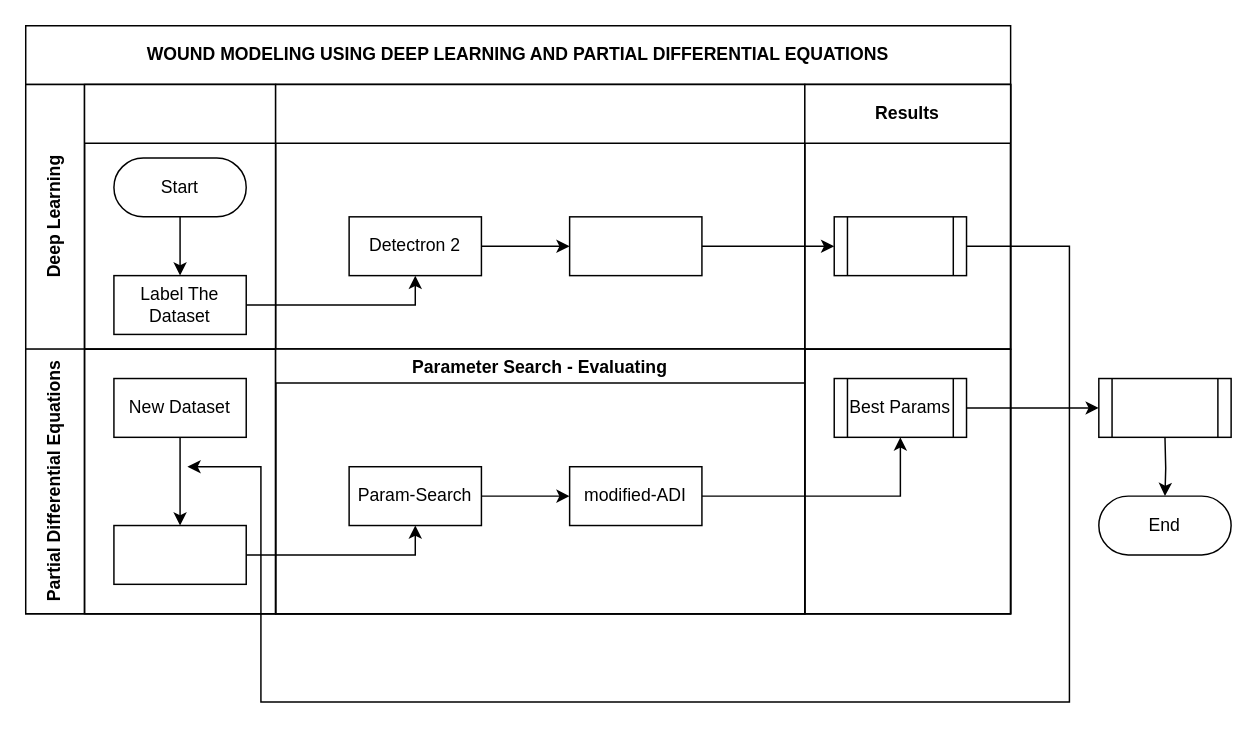
The diagram is 1257 pixels wide and 739 high, and some of its shapes have lost their labels. Here are the shapes that lost their labels. From the top down, the box of each, then its label:
(83, 83, 276, 349): Preprocessing
(274, 83, 805, 349): Training - Testing
(568, 215, 702, 276): Evaluating
(833, 215, 967, 276): Model Weight
(1097, 377, 1231, 437): Behaviors
(112, 524, 246, 584): Segmented Dataset
